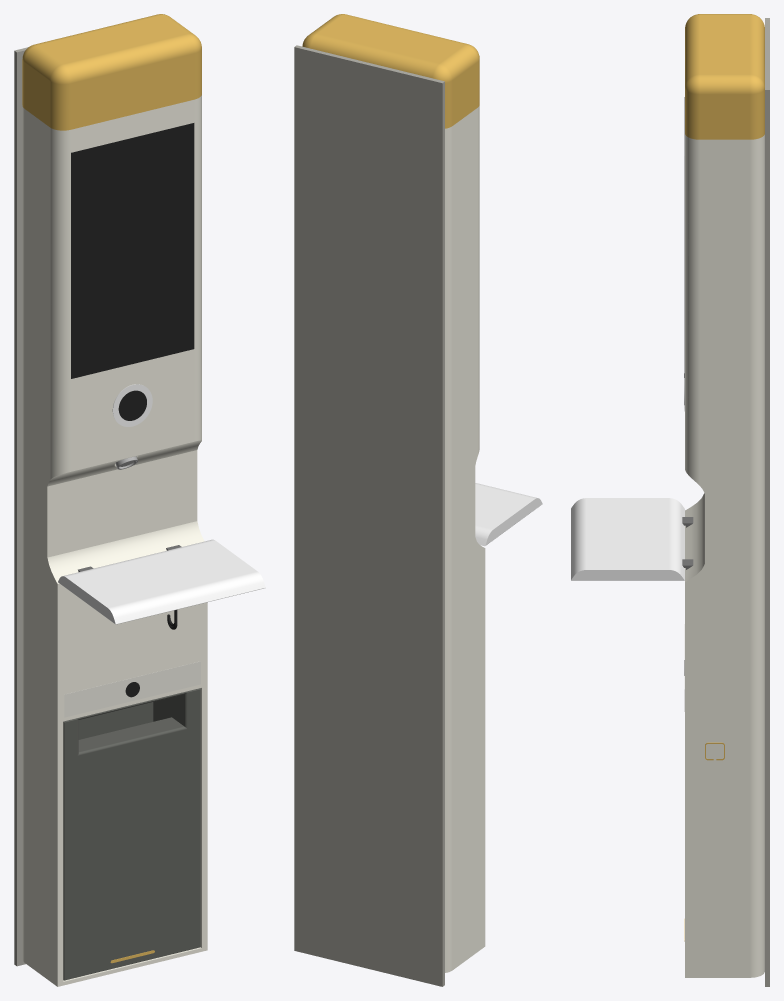
The model's file is street_fold.glb.
3 views of the same model, side by side, from view 1: azimuth 30°, elevation 25°; view 2: azimuth 150°, elevation 25°; view 3: azimuth 270°, elevation 25° (orthographic).
Bounding box in the file's own units: 0.341 × 2 × 0.398.
